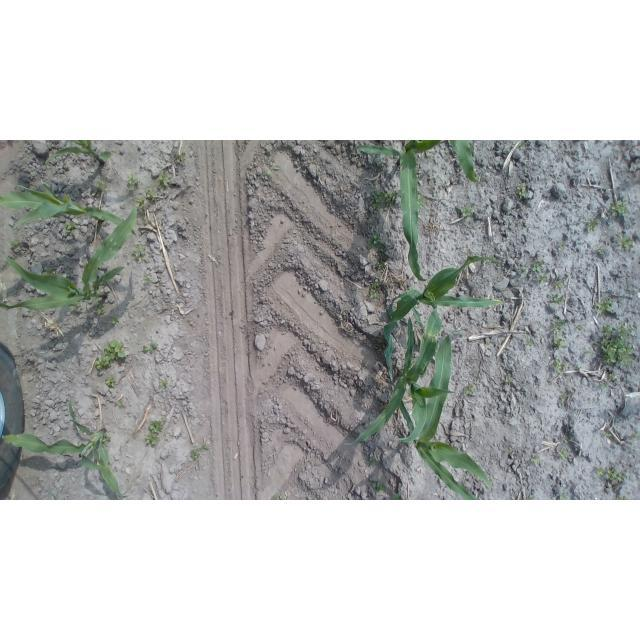Maize: (382, 258, 503, 439), (354, 141, 480, 284), (346, 298, 459, 446), (397, 335, 493, 500), (0, 208, 140, 310), (1, 394, 124, 500), (0, 178, 140, 237), (45, 140, 112, 166)
Weeds: (601, 337, 634, 370), (95, 340, 127, 371), (371, 190, 399, 212), (595, 466, 627, 484), (145, 420, 165, 444), (553, 319, 568, 349), (531, 259, 548, 283), (609, 200, 629, 220), (92, 176, 111, 196), (595, 296, 614, 315), (267, 155, 282, 177), (617, 324, 636, 340), (459, 205, 479, 220), (191, 444, 209, 460), (132, 244, 149, 260), (168, 151, 188, 164), (135, 196, 152, 211), (619, 235, 633, 253), (369, 278, 381, 298), (127, 174, 141, 191), (156, 171, 170, 188), (368, 235, 385, 249), (604, 372, 617, 389), (548, 292, 565, 304), (587, 216, 599, 233), (144, 187, 158, 201), (142, 341, 158, 353), (553, 357, 565, 373), (518, 182, 529, 198), (104, 376, 117, 389), (464, 383, 477, 396), (65, 220, 76, 235), (372, 480, 385, 492), (8, 240, 22, 251), (43, 265, 57, 275), (557, 448, 569, 459), (601, 323, 613, 334), (96, 300, 104, 315), (102, 434, 111, 447), (416, 195, 424, 209), (159, 378, 169, 389), (503, 373, 513, 384), (108, 316, 120, 325), (531, 455, 541, 465), (517, 266, 527, 276), (142, 275, 153, 284), (379, 248, 386, 261), (367, 458, 377, 467), (271, 494, 285, 500), (596, 244, 605, 253), (394, 493, 405, 500), (410, 358, 417, 368), (560, 393, 568, 401), (555, 280, 563, 288), (631, 432, 640, 439), (559, 493, 567, 500), (615, 496, 629, 500), (504, 448, 510, 456), (485, 340, 491, 348), (519, 140, 525, 148), (376, 264, 385, 269), (393, 428, 399, 435), (528, 339, 534, 346), (525, 496, 533, 501), (604, 432, 612, 437), (576, 324, 584, 329), (69, 304, 77, 309), (587, 349, 593, 355), (559, 244, 565, 250), (563, 436, 570, 441), (593, 340, 599, 345), (116, 400, 121, 405), (424, 372, 428, 377), (474, 372, 479, 376)
